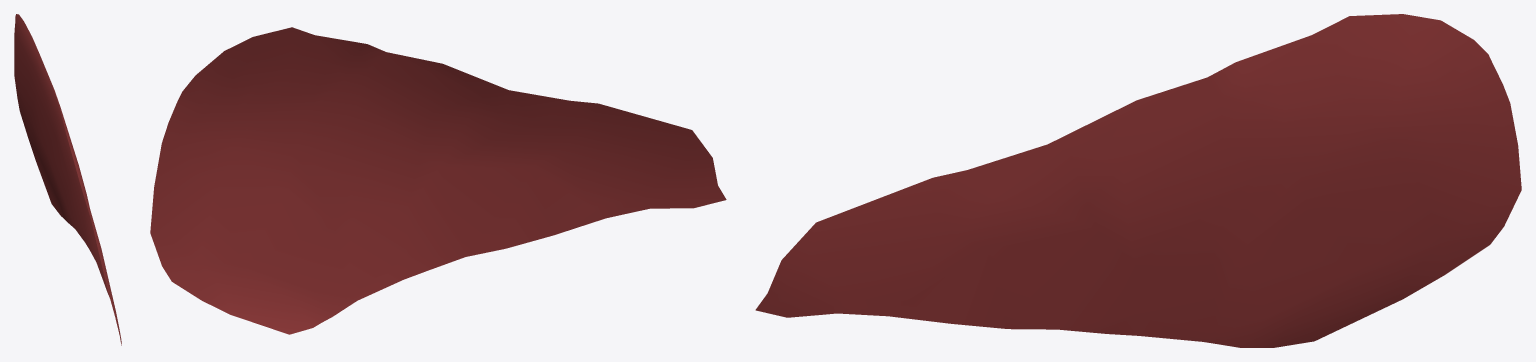
The model's file is serratus-anterior-muscle-e5l.glb.
The picture shows the model from 3 angles, left to right: view 1: azimuth 30°, elevation 25°; view 2: azimuth 150°, elevation 25°; view 3: azimuth 270°, elevation 25°; orthographic projection. The views are drawn at different scales.
Visible parts, largest first — view 1: Serratus anterior muscle.e5l; view 2: Serratus anterior muscle.e5l; view 3: Serratus anterior muscle.e5l.
Part boxes in pixels (x1,y1,x2,y2): Serratus anterior muscle.e5l: [14, 14, 121, 345]; Serratus anterior muscle.e5l: [150, 27, 726, 334]; Serratus anterior muscle.e5l: [755, 14, 1521, 347].
Bounding box in the file's own units: 0.00956 × 0.0189 × 0.0363.
